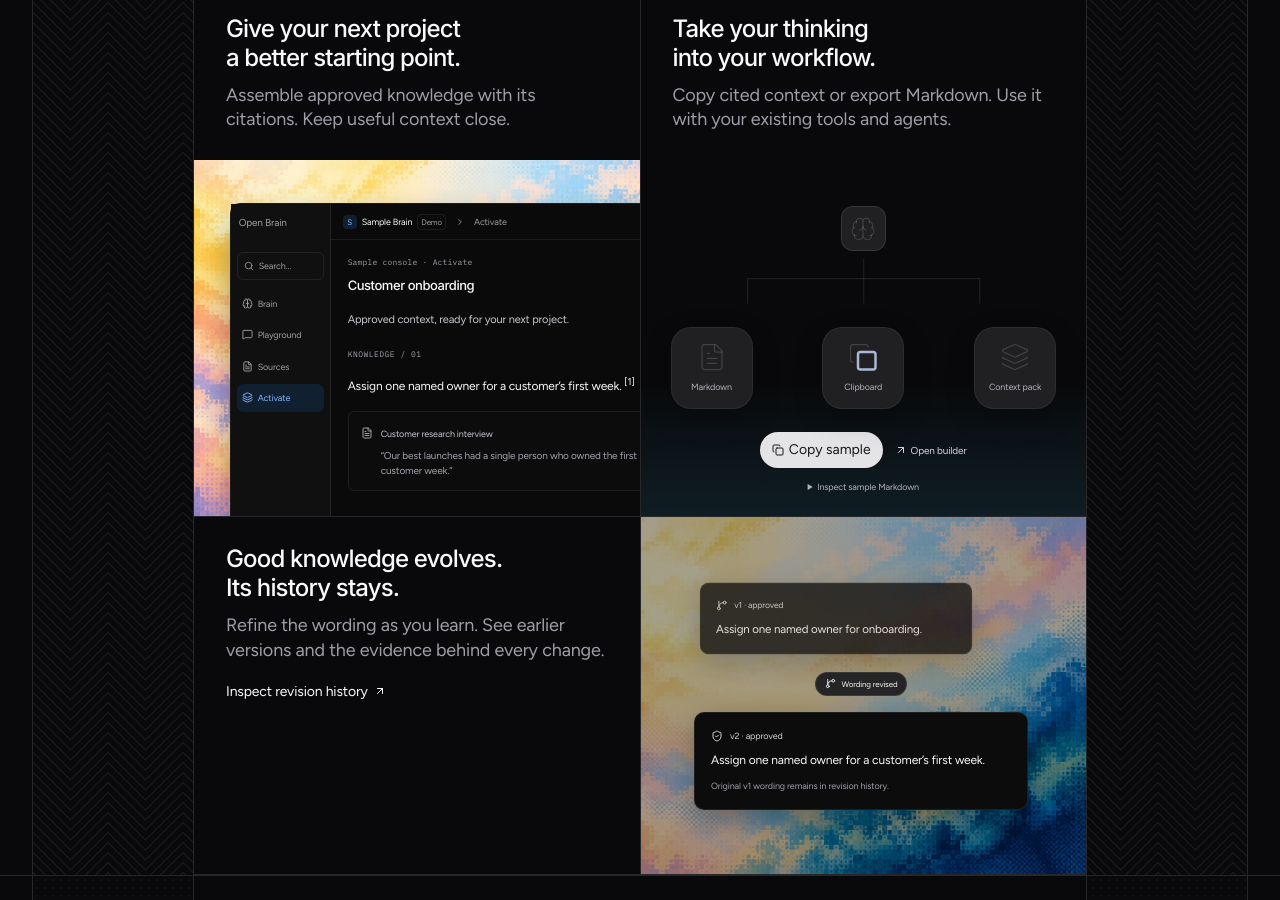
App › copies synthetic landing context and gives a usable failure message
(page scrolled)
Click the button with aria-label "Copy sample context" at point(821, 450), box [760,432,883,468]
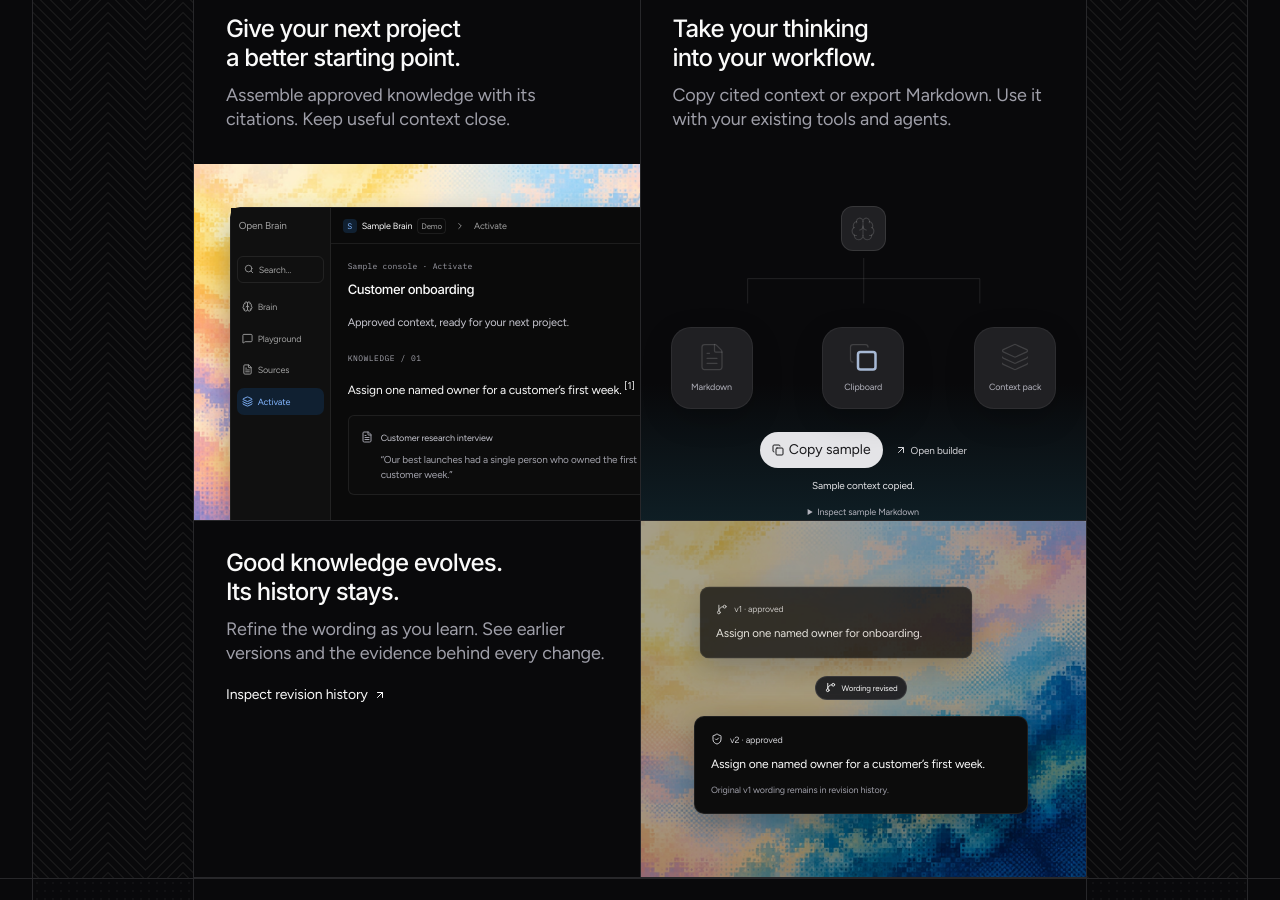
Check: the text "Sample context copied." is shown, box [812,479,914,492]
Click the button with aria-label "Copy sample context" at point(821, 450), box [760,432,883,468]
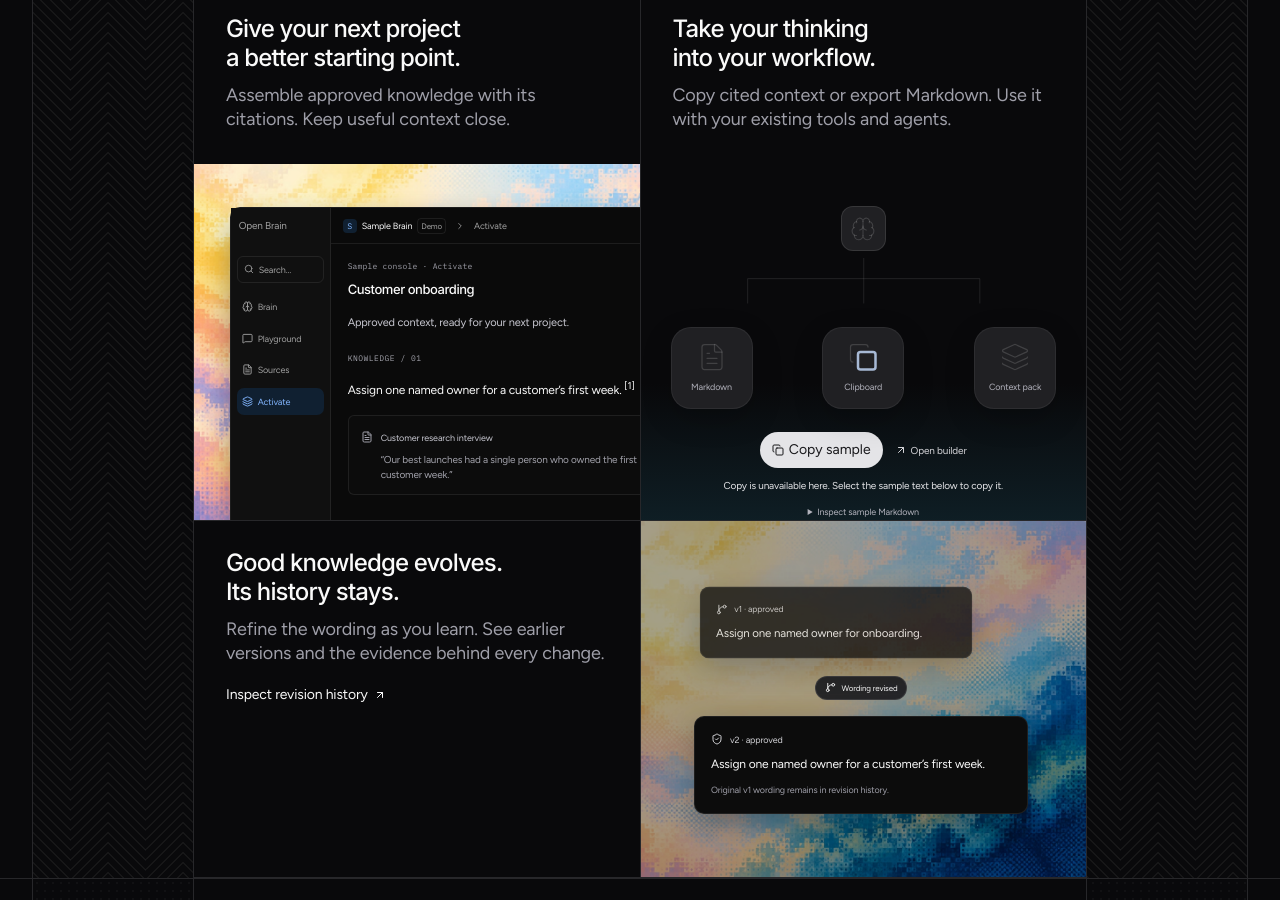
Check: the text "Copy is unavailable here. Select the sample text below to copy it." is shown, box [724,479,1003,492]
